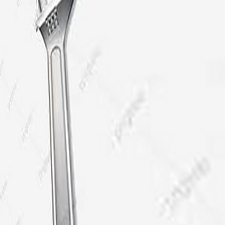Wrench: (28, 1, 89, 225)
